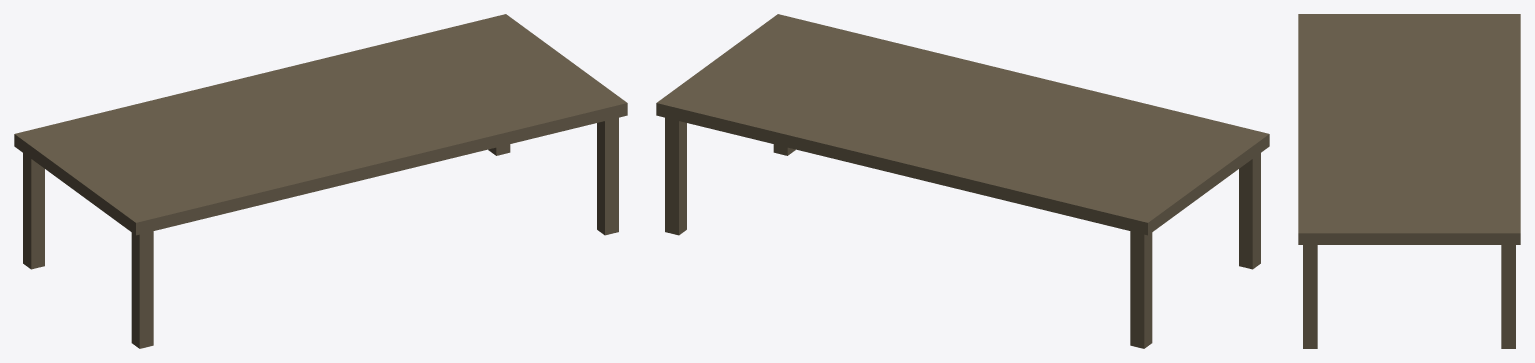
File: table.glb
3 renders of one model, left to right at view 1: azimuth 30°, elevation 25°; view 2: azimuth 150°, elevation 25°; view 3: azimuth 270°, elevation 25°, orthographic. The views are drawn at different scales.
Parts seen in each view (by area): view 1: Cube.003; view 2: Cube.003; view 3: Cube.003.
Part boxes in pixels (x1,y1,x2,y2): Cube.003: (14, 14, 627, 348); Cube.003: (656, 14, 1269, 348); Cube.003: (1298, 14, 1520, 348).
Size of the model in its own units: 9.93 by 2.5 by 4.26.
